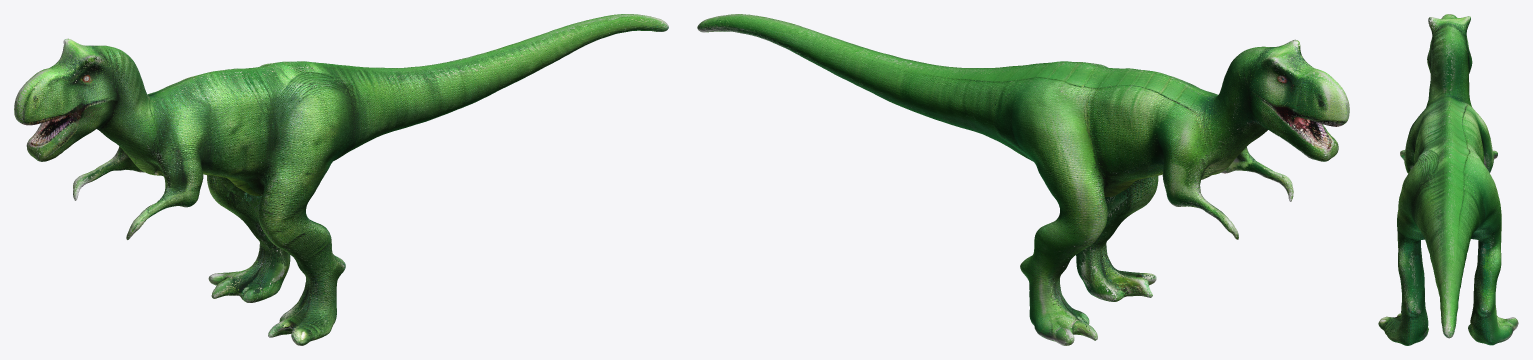
3 views of the same model, side by side, from view 1: azimuth 30°, elevation 25°; view 2: azimuth 150°, elevation 25°; view 3: azimuth 270°, elevation 25° (orthographic). The views are drawn at different scales.
Visible parts, largest first — view 1: Node; view 2: Node; view 3: Node.
Part boxes in pixels (<box>): Node: <box>14,14,668,345</box>; Node: <box>697,14,1349,345</box>; Node: <box>1378,14,1518,345</box>.
Size of the model in its own units: 2 by 0.9168 by 0.4752.
Materials: 1 (1 with a texture image).
